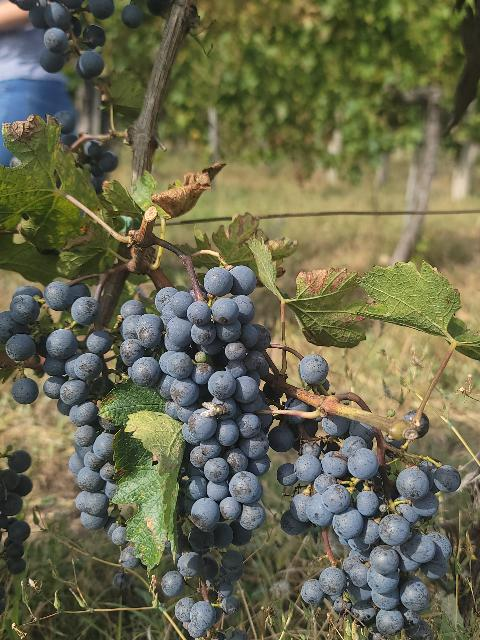grapes: (295, 436, 460, 640), (156, 265, 271, 540), (0, 281, 116, 529)
